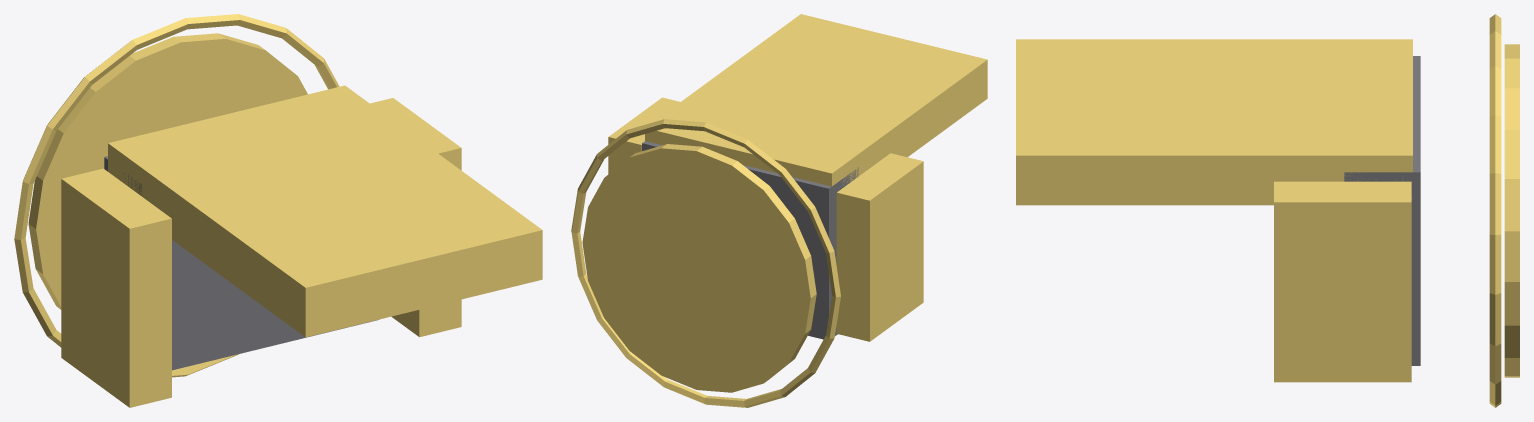
Rendered from 03_regal_throne.glb.
The picture shows the model from 3 angles, left to right: view 1: azimuth 30°, elevation 25°; view 2: azimuth 150°, elevation 25°; view 3: azimuth 270°, elevation 25°; orthographic projection. The views are drawn at different scales.
Visible parts, largest first — view 1: back, arm_l, base_disc, seat, base_ring, arm_r; view 2: base_disc, back, arm_l, base_ring, seat, arm_r; view 3: back, arm_r, base_disc, base_ring, seat.
Part boxes in pixels (<box>): back: <box>108,85,542,337</box>; arm_l: <box>61,168,171,407</box>; base_disc: <box>28,33,307,309</box>; seat: <box>104,156,378,370</box>; base_ring: <box>14,14,339,377</box>; arm_r: <box>370,98,461,337</box>; base_disc: <box>582,144,816,392</box>; back: <box>645,14,987,186</box>; arm_l: <box>836,153,923,341</box>; base_ring: <box>571,119,840,407</box>; seat: <box>642,141,858,339</box>; arm_r: <box>608,97,679,173</box>; back: <box>1016,39,1412,205</box>; arm_r: <box>1274,181,1411,382</box>; base_disc: <box>1504,44,1519,377</box>; base_ring: <box>1489,14,1501,407</box>; seat: <box>1344,56,1420,365</box>.
Bounding box in the file's own units: 1.3 × 1.3 × 1.65.
